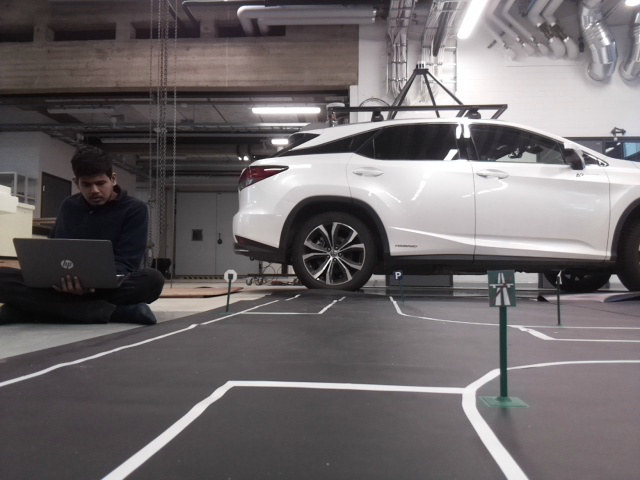HighwayExit: (486, 270, 515, 305)
Parking: (393, 270, 401, 279)
